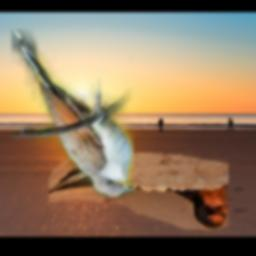Cuckoo: (12, 29, 135, 197)
Swallow: (50, 153, 230, 230)
